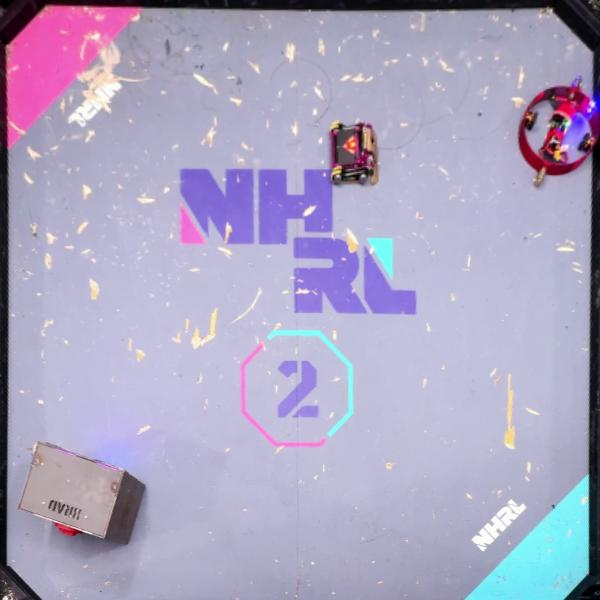housebot: (17, 442, 146, 546)
robot: (517, 76, 600, 186), (329, 122, 379, 186)
